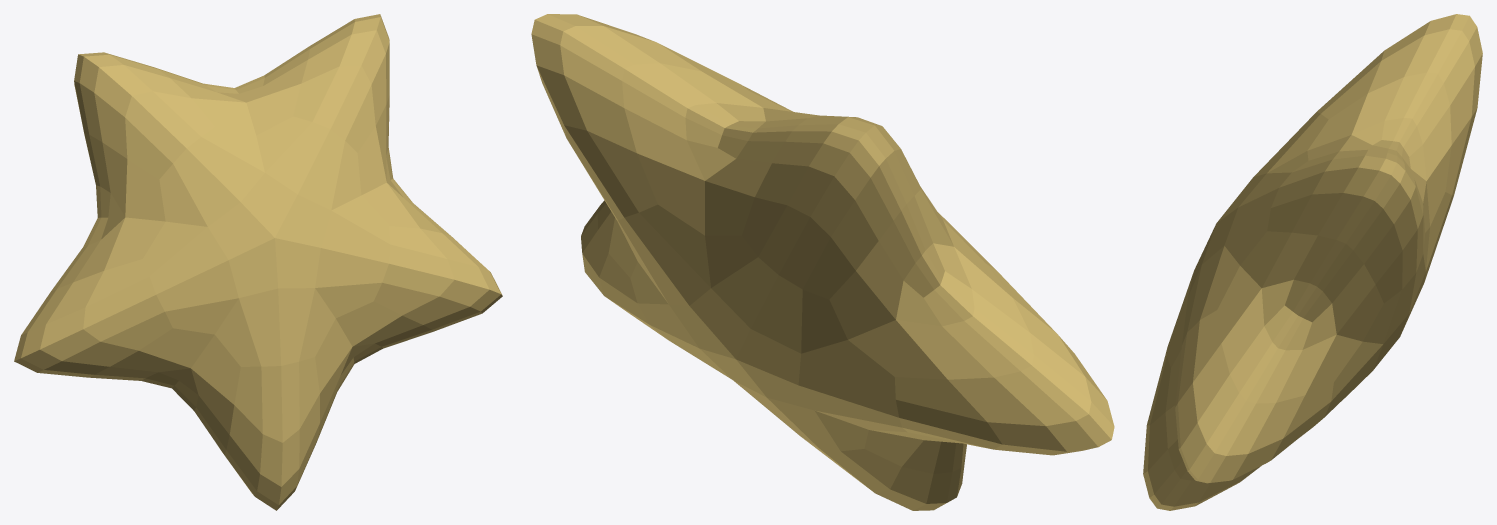
Rendered from BIGSTAR.fbx.
The picture shows the model from 3 angles, left to right: view 1: azimuth 30°, elevation 25°; view 2: azimuth 150°, elevation 25°; view 3: azimuth 270°, elevation 25°; orthographic projection. The views are drawn at different scales.
Visible parts, largest first — view 1: Circle.001; view 2: Circle.001; view 3: Circle.001.
Boxes of the visible parts, bbox=[...] form: Circle.001: bbox=[14, 14, 502, 510]; Circle.001: bbox=[531, 14, 1114, 510]; Circle.001: bbox=[1143, 14, 1482, 510].
Size of the model in its own units: 3.77 by 3.15 by 2.12.
